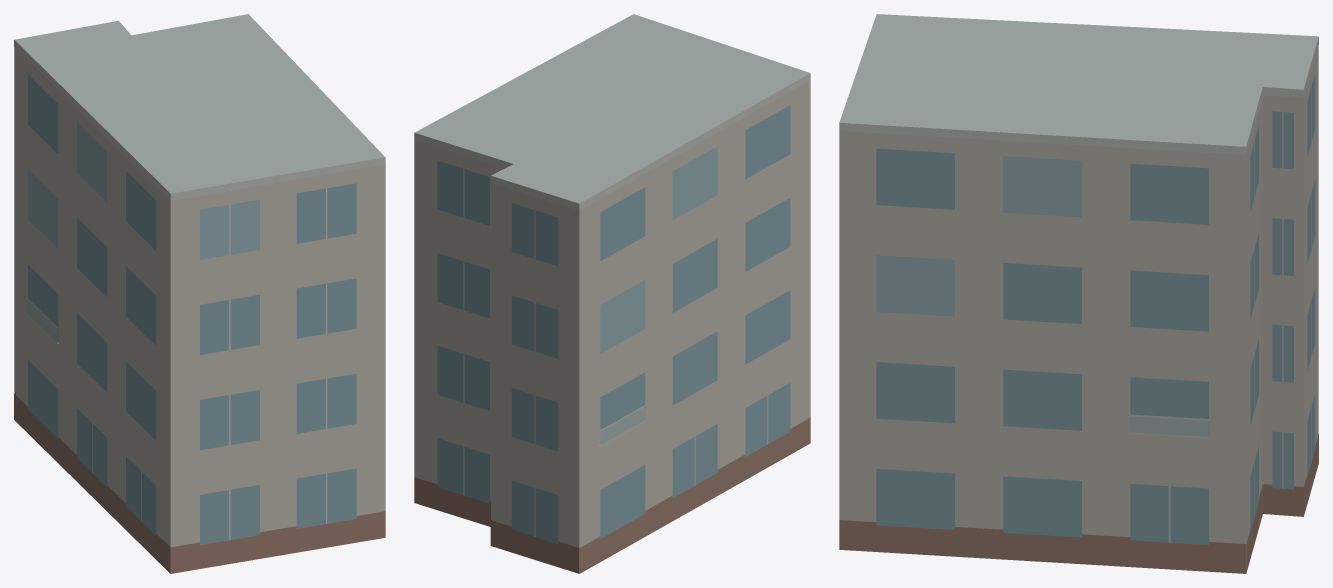
Rendered from survey-upis-33010154.glb.
3 views of the same model, side by side, from view 1: azimuth 30°, elevation 25°; view 2: azimuth 150°, elevation 25°; view 3: azimuth 270°, elevation 25° (orthographic). The views are drawn at different scales.
Parts seen in each view (by area): view 1: survey-upis-33010154.tmp; view 2: survey-upis-33010154.tmp; view 3: survey-upis-33010154.tmp.
Part boxes in pixels (left/top/right/bottom): survey-upis-33010154.tmp: left=14, top=14, right=385, bottom=573; survey-upis-33010154.tmp: left=414, top=14, right=810, bottom=573; survey-upis-33010154.tmp: left=839, top=14, right=1318, bottom=573.
Bounding box in the file's own units: 8.44 × 12.62 × 12.86.
